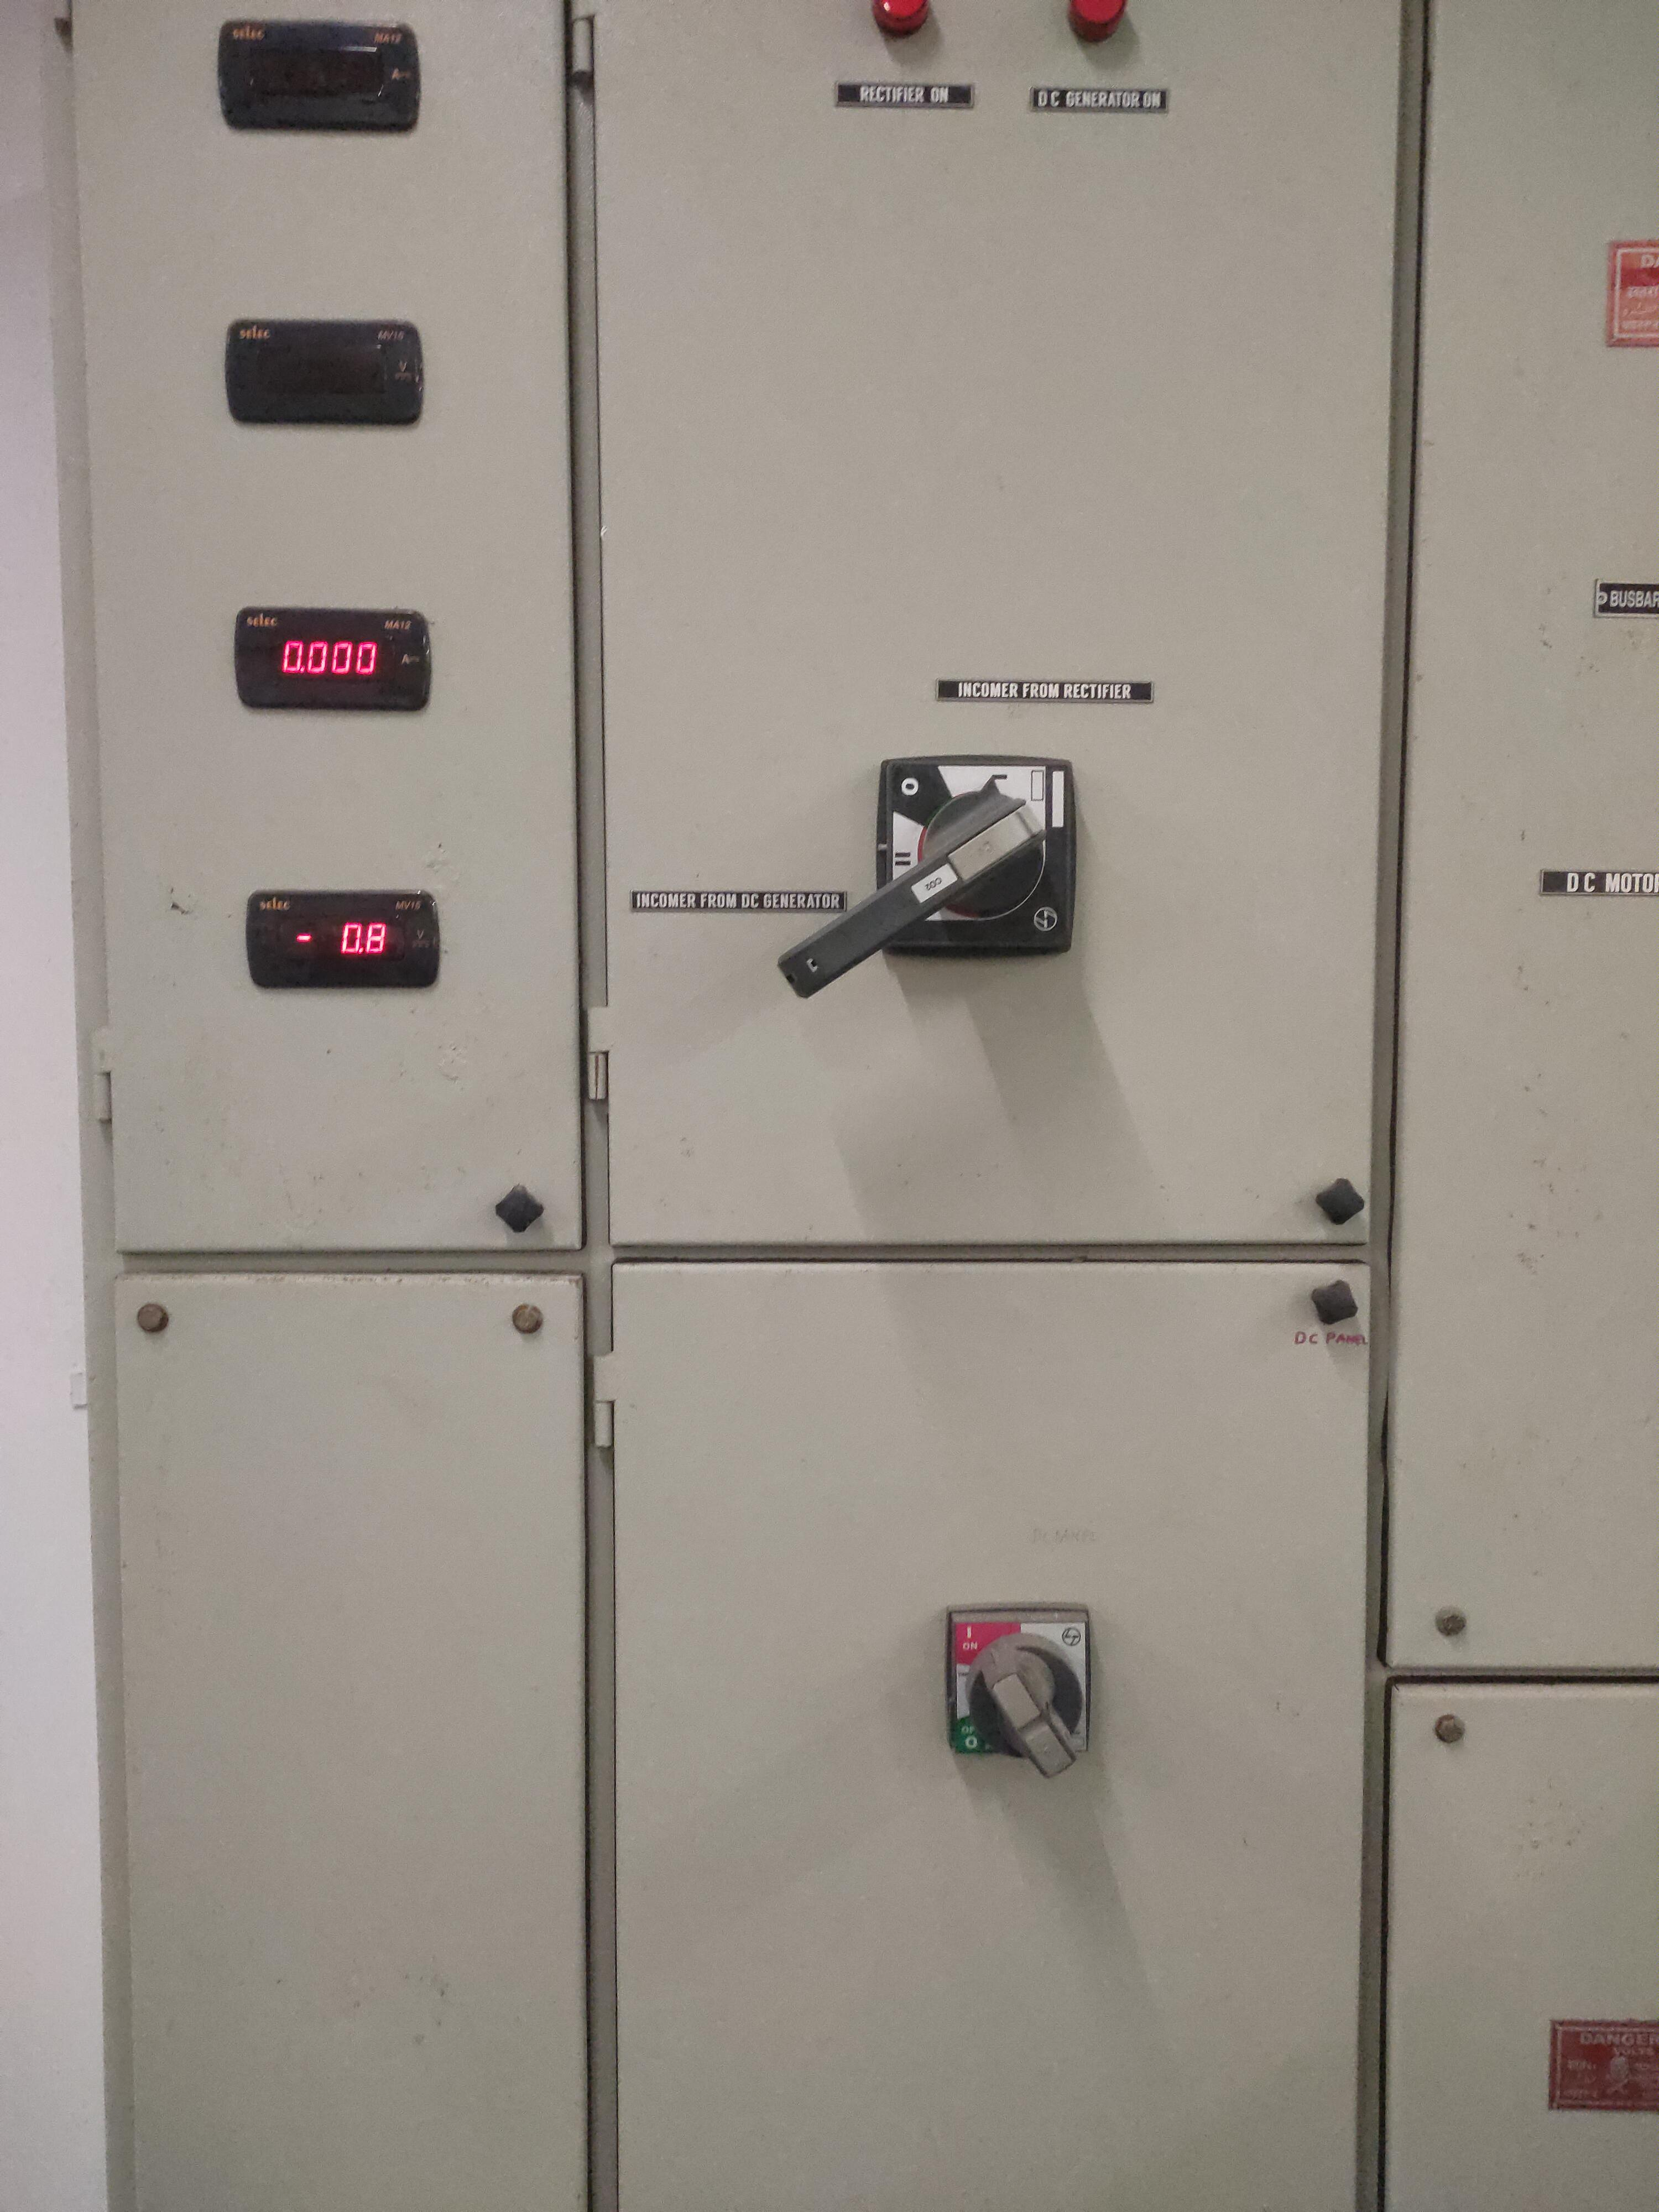Knob 1: (742, 718, 1094, 1019)
Knob 2: (927, 1564, 1112, 1803)
Light Indications: (807, 0, 1213, 124)
